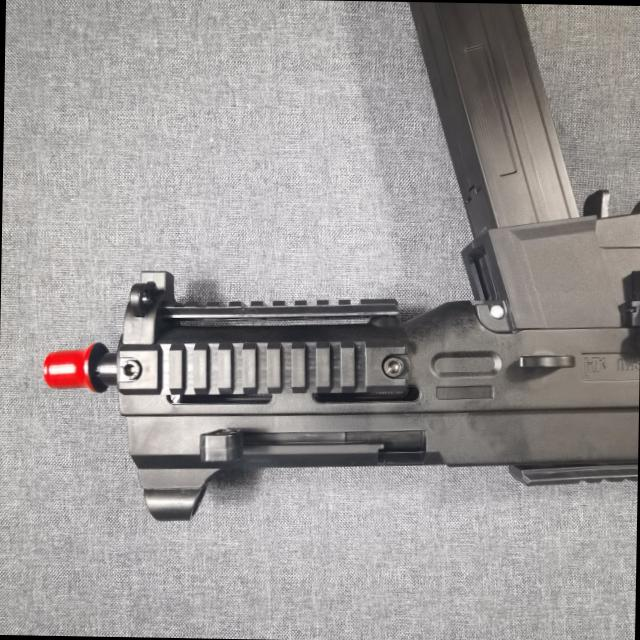Gun: (46, 0, 640, 519)
